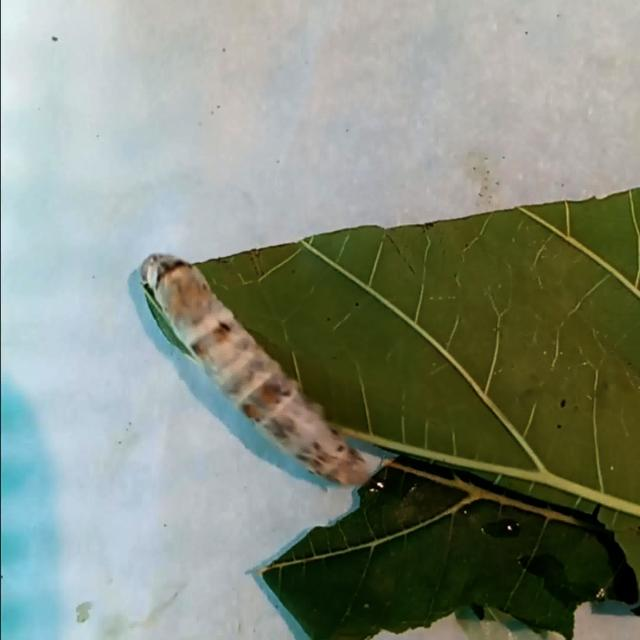Grasserie: (116, 199, 402, 520)
